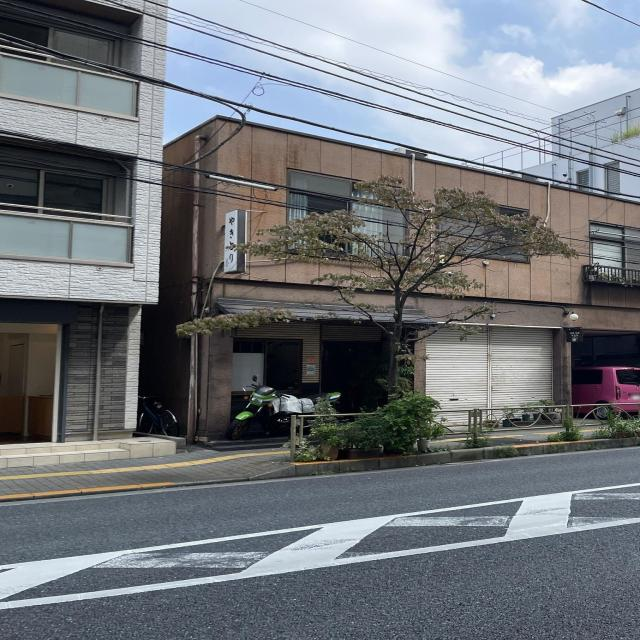dogwood: (175, 174, 582, 454)
